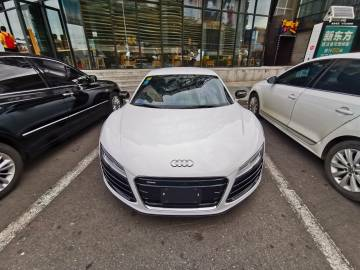other: (96, 63, 269, 209), (0, 48, 121, 182), (246, 49, 360, 181)
